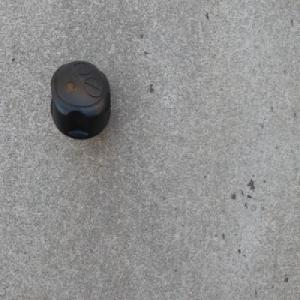FuelCap: (49, 58, 112, 142)
